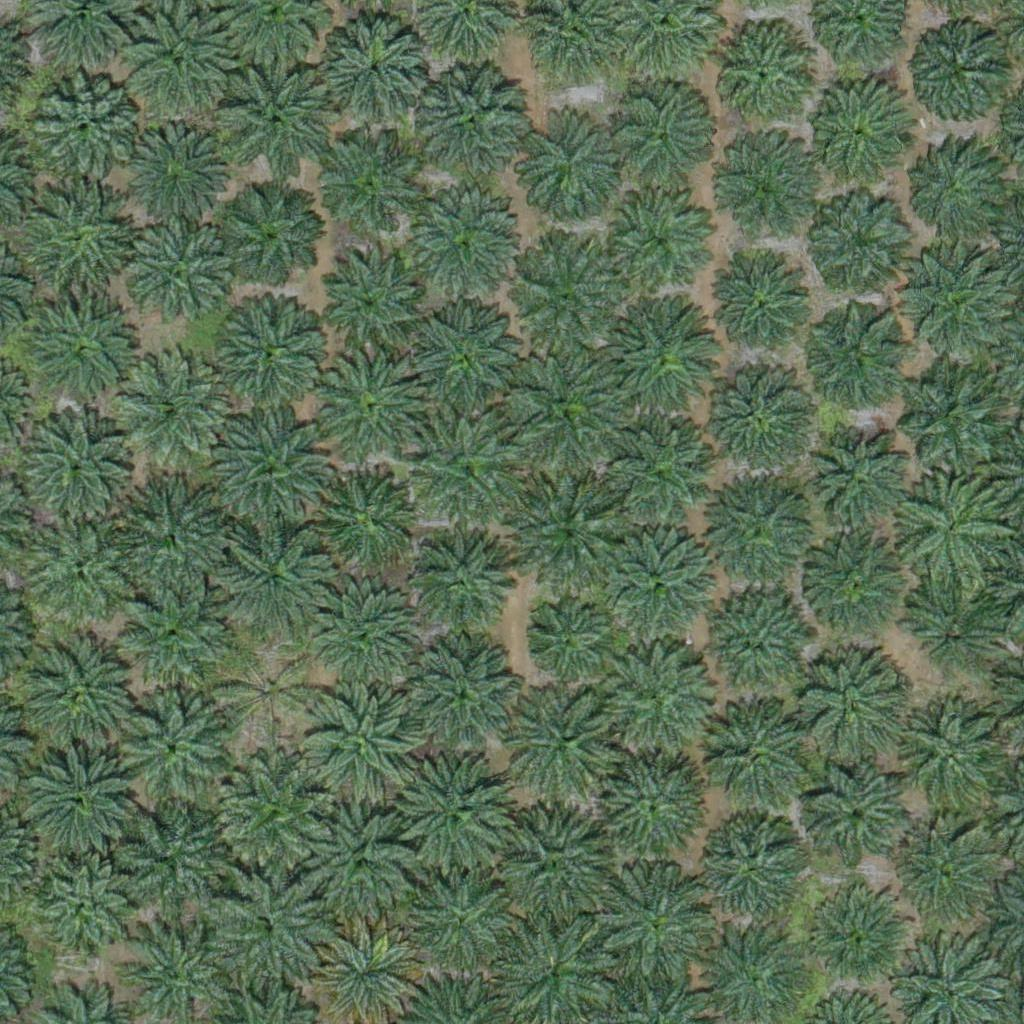Kelapa_Sawit: (14, 181, 139, 307), (24, 291, 149, 417), (593, 416, 718, 542), (507, 473, 632, 599), (9, 399, 134, 525), (607, 186, 720, 300), (511, 108, 624, 222), (600, 299, 713, 413), (602, 751, 715, 865), (508, 685, 621, 799), (594, 866, 707, 980), (312, 348, 425, 462), (407, 638, 520, 752), (122, 11, 235, 124), (902, 245, 1015, 358), (508, 243, 621, 356), (321, 248, 434, 361), (214, 294, 327, 407), (220, 69, 333, 182), (116, 114, 229, 227), (896, 705, 1009, 818), (799, 534, 912, 647), (794, 656, 907, 769), (701, 364, 814, 477), (702, 477, 815, 590), (494, 810, 607, 923), (395, 755, 508, 868), (25, 510, 138, 623), (112, 803, 225, 916), (120, 695, 233, 808), (116, 578, 229, 691), (110, 480, 223, 593), (216, 756, 329, 869), (410, 408, 523, 521), (212, 874, 325, 987), (605, 75, 717, 189), (417, 63, 529, 177), (116, 349, 228, 463), (216, 409, 328, 523), (311, 586, 423, 700), (710, 24, 822, 137), (320, 19, 432, 132), (704, 133, 816, 246), (312, 136, 424, 249), (408, 197, 520, 310), (412, 299, 524, 412), (125, 223, 237, 336), (31, 72, 143, 185), (899, 364, 1011, 477), (700, 595, 812, 708), (697, 703, 809, 816), (601, 531, 713, 644), (600, 642, 712, 755), (509, 353, 621, 466), (407, 865, 519, 978), (28, 634, 140, 747), (24, 741, 136, 854), (218, 521, 330, 634), (303, 805, 415, 918), (304, 683, 416, 796), (219, 643, 319, 744), (907, 139, 1007, 240), (807, 79, 907, 180), (813, 189, 913, 290), (222, 186, 322, 287), (902, 481, 1002, 582), (908, 575, 1008, 676), (896, 822, 996, 923), (802, 311, 902, 412), (813, 428, 913, 529), (804, 762, 904, 863), (36, 861, 136, 962), (919, 19, 1019, 119), (715, 260, 815, 360), (699, 816, 799, 916), (804, 888, 904, 988), (314, 470, 414, 570), (413, 528, 513, 628), (527, 604, 602, 680)
